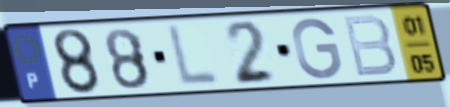2: (221, 18, 279, 87)
8: (51, 26, 102, 97), (102, 26, 153, 91)
B: (339, 13, 400, 80)
G: (290, 16, 345, 81)
L: (165, 22, 223, 89)
